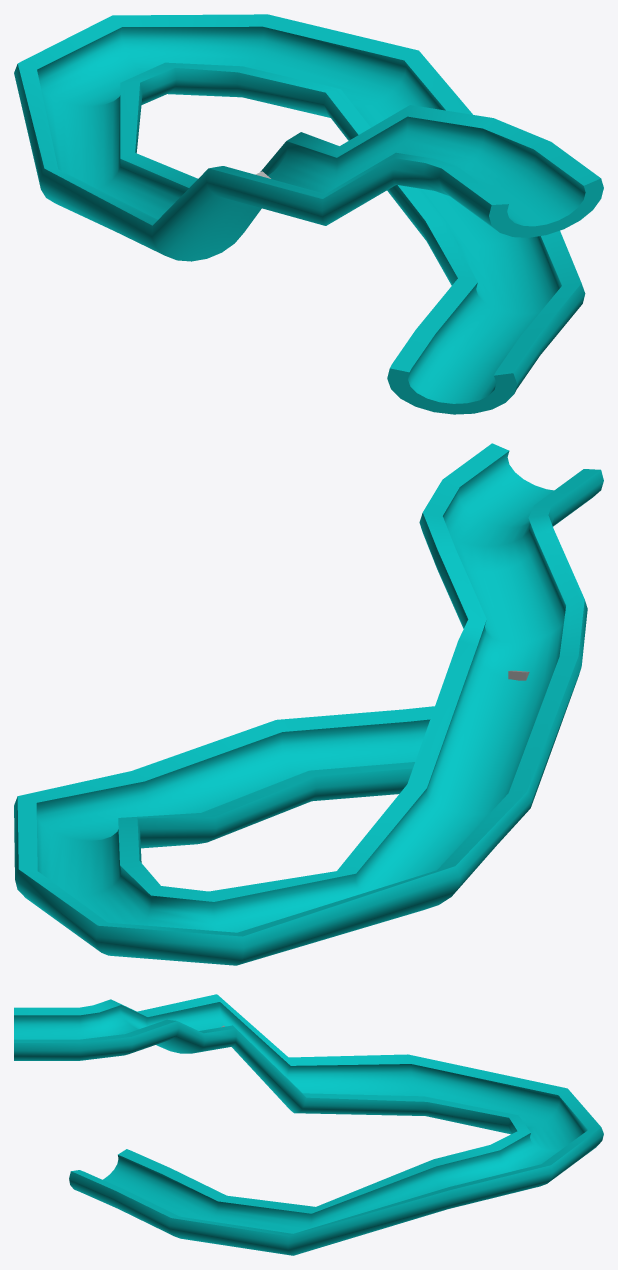
File: Course.fbx
3 renders of one model, top to bottom at view 1: azimuth 30°, elevation 25°; view 2: azimuth 150°, elevation 25°; view 3: azimuth 270°, elevation 25°, orthographic. The views are drawn at different scales.
Visible parts, largest first — view 1: RaceCourse; view 2: RaceCourse; view 3: RaceCourse.
Boxes of the visible parts, x1=… form: RaceCourse: x1=14, y1=14, x2=603, y2=414; RaceCourse: x1=14, y1=443, x2=603, y2=965; RaceCourse: x1=14, y1=994, x2=603, y2=1255.
Size of the model in its own units: 89.05 by 52.74 by 162.
